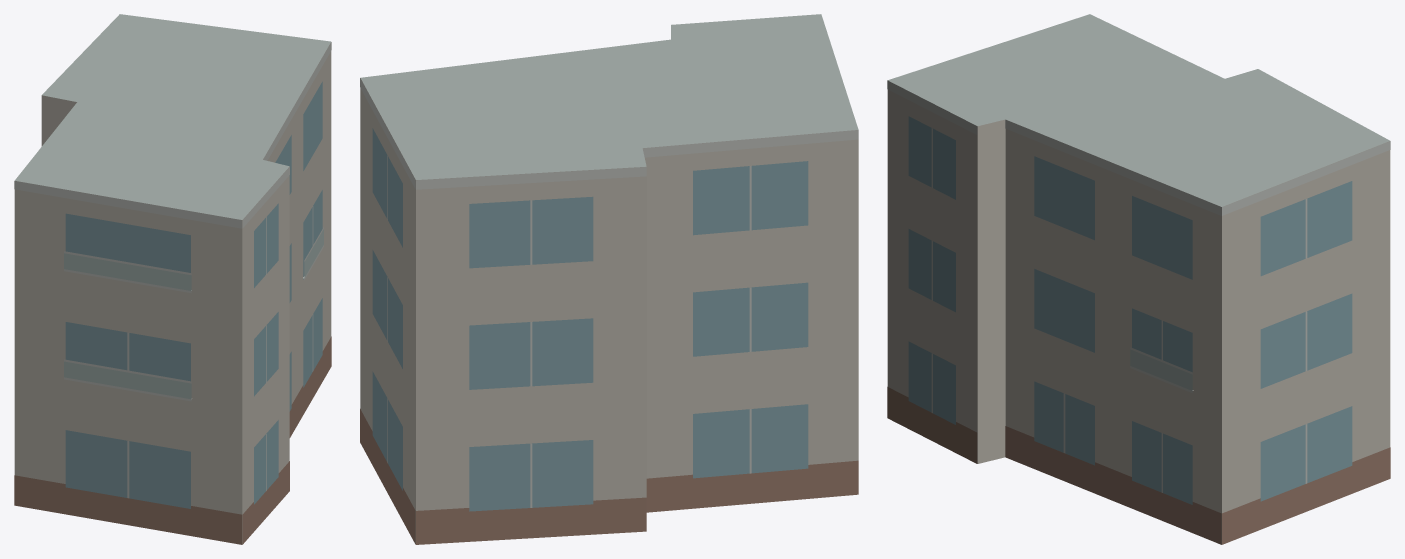
File: survey-upis-32935066.glb
The picture shows the model from 3 angles, left to right: view 1: azimuth 30°, elevation 25°; view 2: azimuth 150°, elevation 25°; view 3: azimuth 270°, elevation 25°; orthographic projection. The views are drawn at different scales.
Parts seen in each view (by area): view 1: survey-upis-32935066.tmp; view 2: survey-upis-32935066.tmp; view 3: survey-upis-32935066.tmp.
Boxes of the visible parts, <box> form: survey-upis-32935066.tmp: <box>14,14,331,544</box>; survey-upis-32935066.tmp: <box>360,14,858,544</box>; survey-upis-32935066.tmp: <box>887,14,1390,544</box>.
Bounding box in the file's own units: 11.22 × 9.15 × 12.36.
